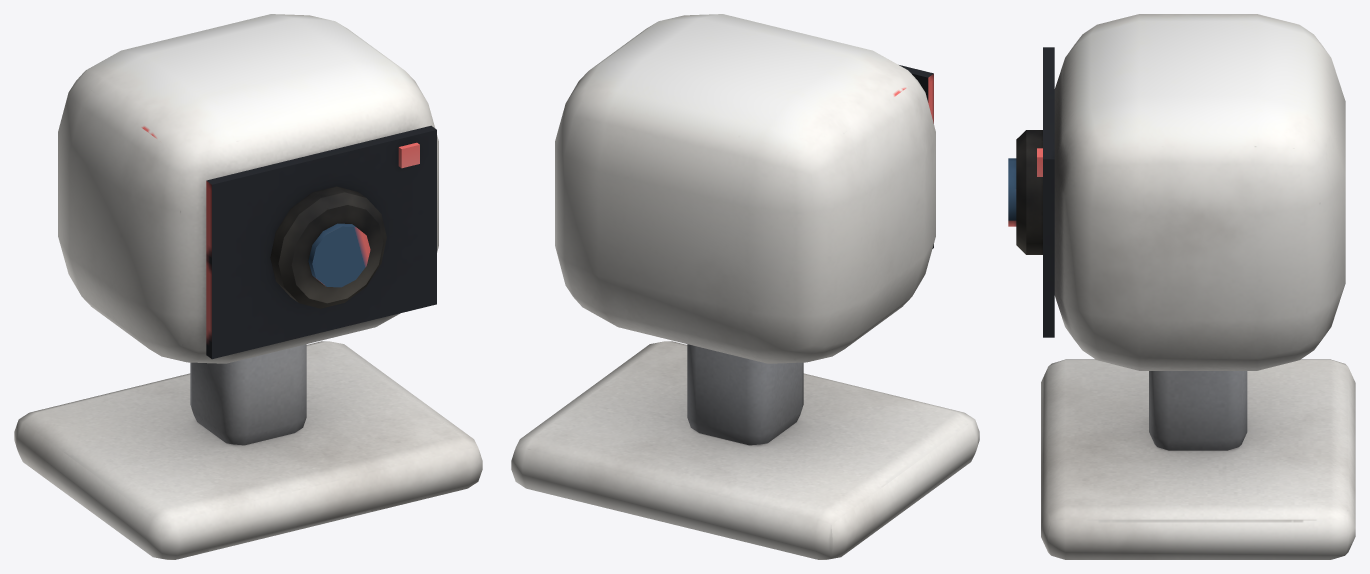
Rendered from baby_monitor_cam.fbx.
The picture shows the model from 3 angles, left to right: view 1: azimuth 30°, elevation 25°; view 2: azimuth 150°, elevation 25°; view 3: azimuth 270°, elevation 25°; orthographic projection. The views are drawn at different scales.
Visible parts, largest first — view 1: Spin, Body; view 2: Spin, Body; view 3: Spin, Body.
Part boxes in pixels (bbox=[...]): Spin: bbox=[58, 14, 438, 363]; Body: bbox=[14, 341, 482, 559]; Spin: bbox=[555, 14, 935, 363]; Body: bbox=[511, 341, 979, 559]; Spin: bbox=[1008, 14, 1345, 370]; Body: bbox=[1041, 359, 1355, 559].
Size of the model in its own units: 0.4 by 0.48 by 0.353.
Materials: 1 (1 with a texture image).
